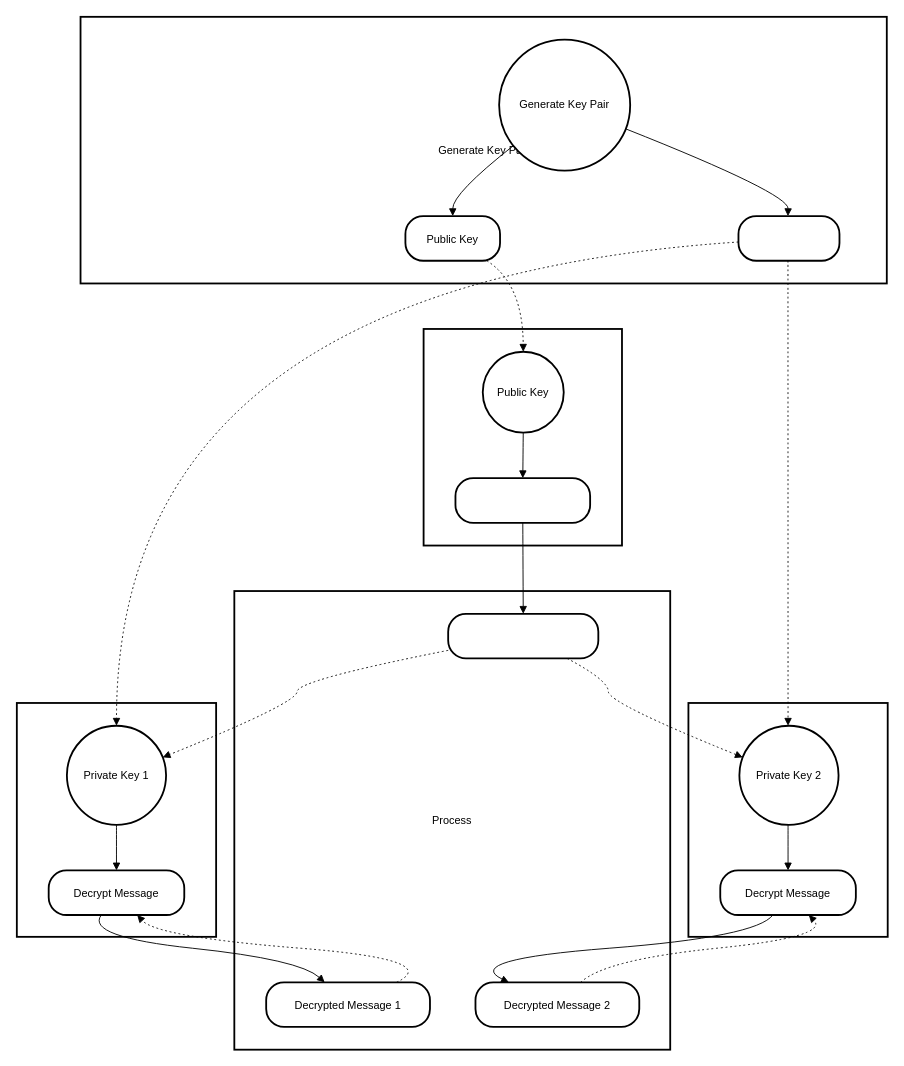
Some shapes in this 904 by 1066 pixel diagram are drawn without their labels. The shapes that lost their labels are listed below. From the top down, each one's box as (x1, y1, x2, y2) in pixels, then its label:
(737, 215, 840, 261): Private Key
(422, 328, 622, 546): Sender
(454, 477, 591, 523): Encrypt Message
(447, 612, 599, 659): Encrypted Message
(15, 702, 217, 937): Recipient 1
(687, 702, 888, 937): Recipient 2
